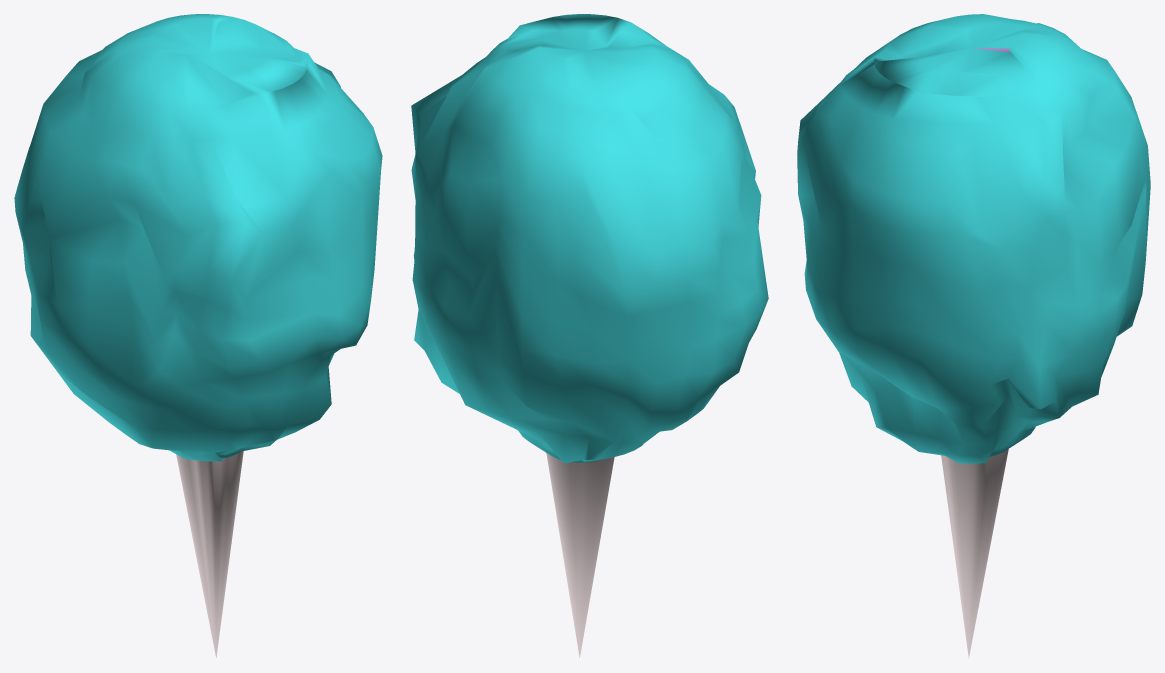
Rendered from cotton conday Blue .fbx.
3 views of the same model, side by side, from view 1: azimuth 30°, elevation 25°; view 2: azimuth 150°, elevation 25°; view 3: azimuth 270°, elevation 25° (orthographic).
Parts seen in each view (by area): view 1: Blue; view 2: Blue; view 3: Blue.
Part boxes in pixels (x1=…): Blue: x1=14, y1=14, x2=382, y2=657; Blue: x1=411, y1=14, x2=768, y2=658; Blue: x1=797, y1=14, x2=1150, y2=658.
Bounding box in the file's own units: 202 × 380 × 196.
